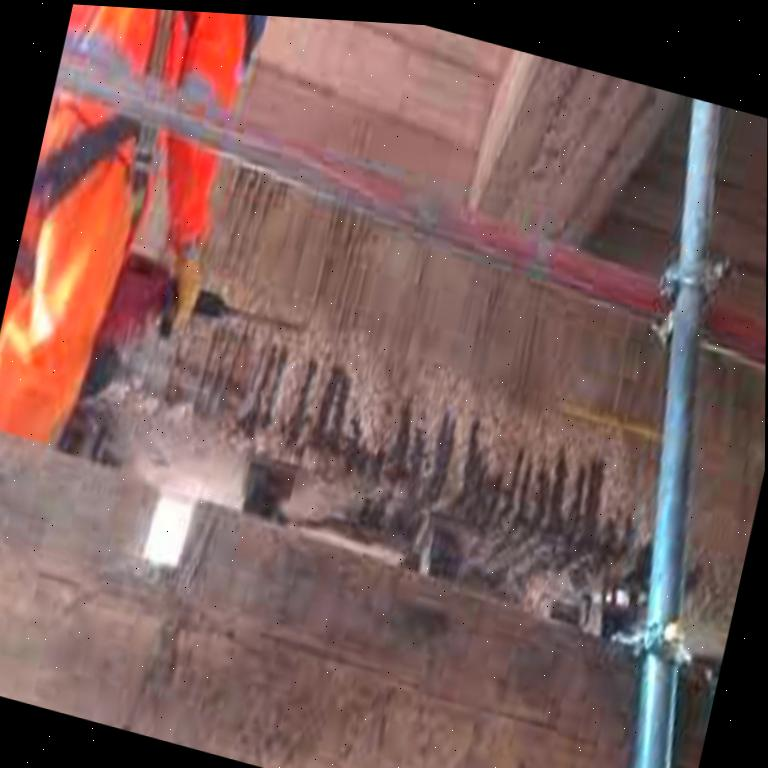spalling: (109, 311, 659, 625)
